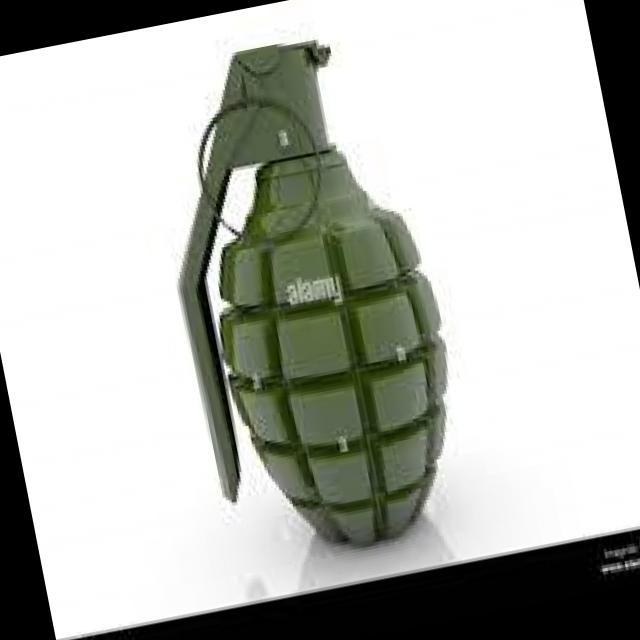grenade: (142, 32, 487, 590)
